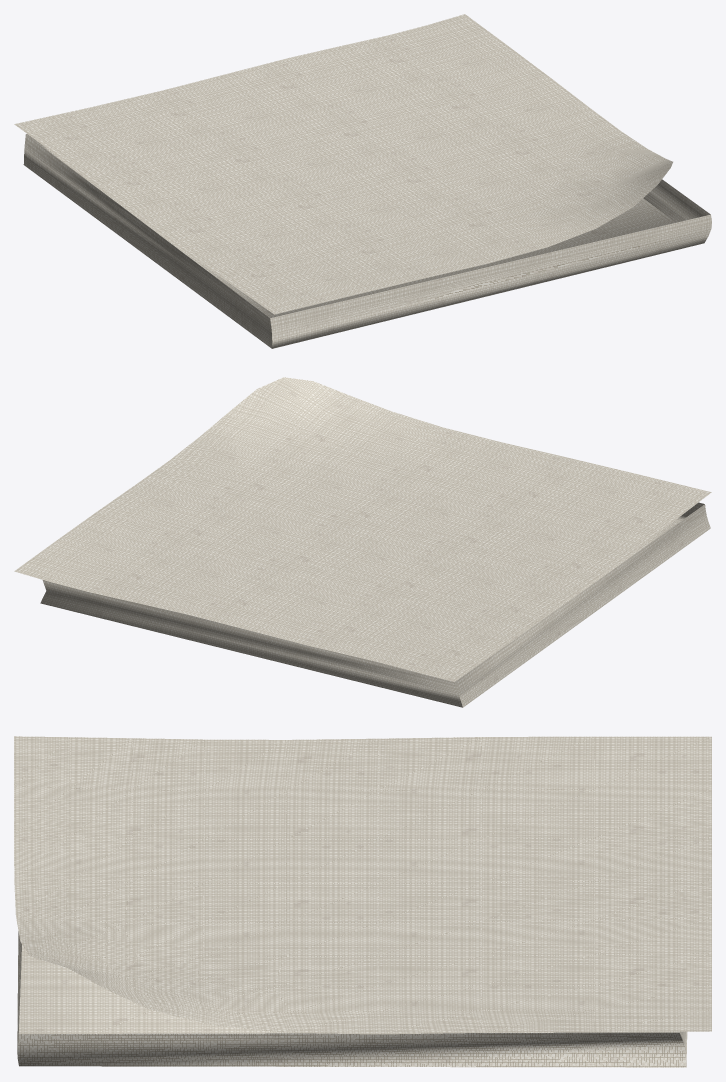
File: SM_MourningCloth_Stack_Can.glb
3 renders of one model, top to bottom at view 1: azimuth 30°, elevation 25°; view 2: azimuth 150°, elevation 25°; view 3: azimuth 270°, elevation 25°, orthographic. The views are drawn at different scales.
Parts seen in each view (by area): view 1: SM_MourningCloth_Stack_Can.001; view 2: SM_MourningCloth_Stack_Can.001; view 3: SM_MourningCloth_Stack_Can.001.
Part boxes in pixels (x1,y1,x2,y2): SM_MourningCloth_Stack_Can.001: (14, 14, 711, 348); SM_MourningCloth_Stack_Can.001: (14, 377, 711, 707); SM_MourningCloth_Stack_Can.001: (14, 736, 711, 1067).
Size of the model in its own units: 0.3124 by 0.0435 by 0.312.
Materials: 1 (1 with a texture image).
